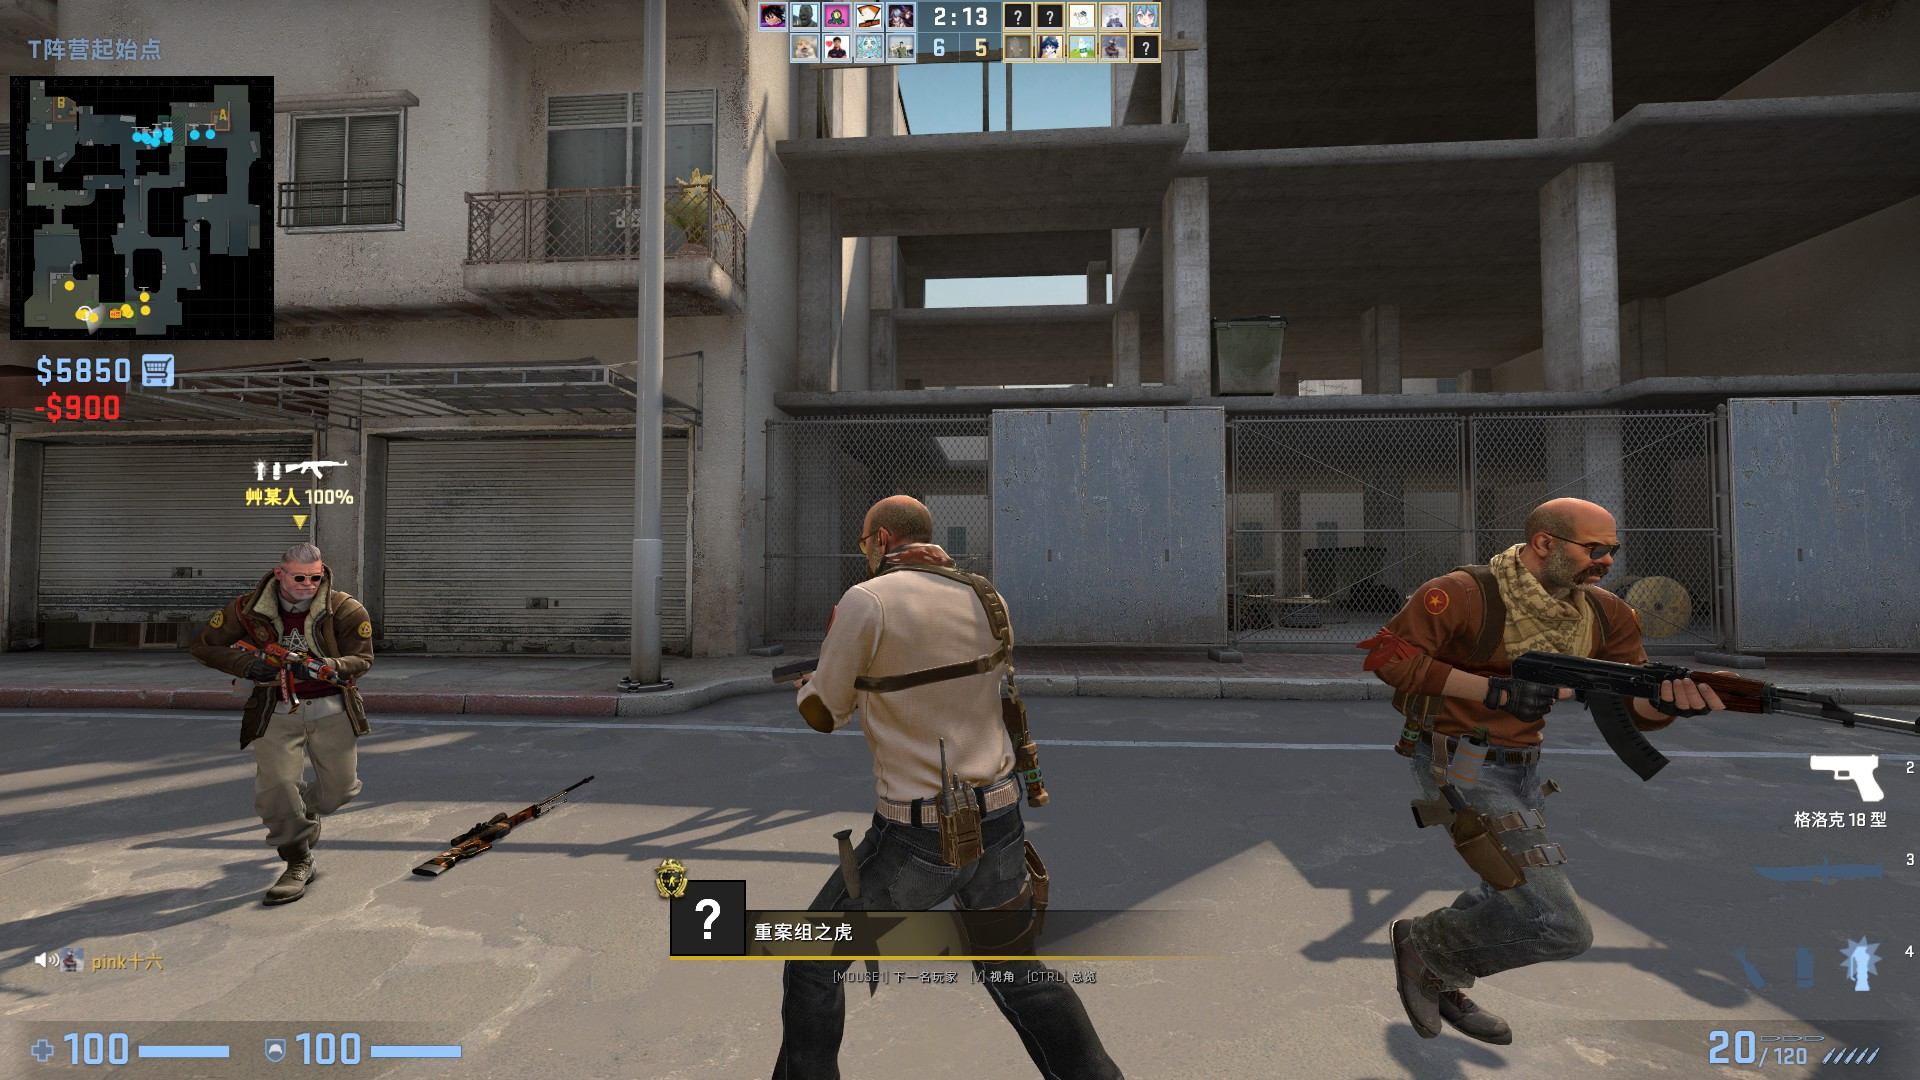head: (1520, 494, 1619, 598), (853, 492, 937, 569), (271, 543, 329, 601)
